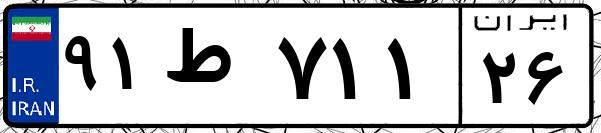1: (385, 28, 445, 110), (330, 28, 385, 110), (110, 28, 158, 98)
2: (475, 38, 525, 113)
6: (525, 38, 570, 115)
7: (270, 28, 330, 110)
9: (57, 26, 110, 100)
ط: (158, 20, 270, 120)
